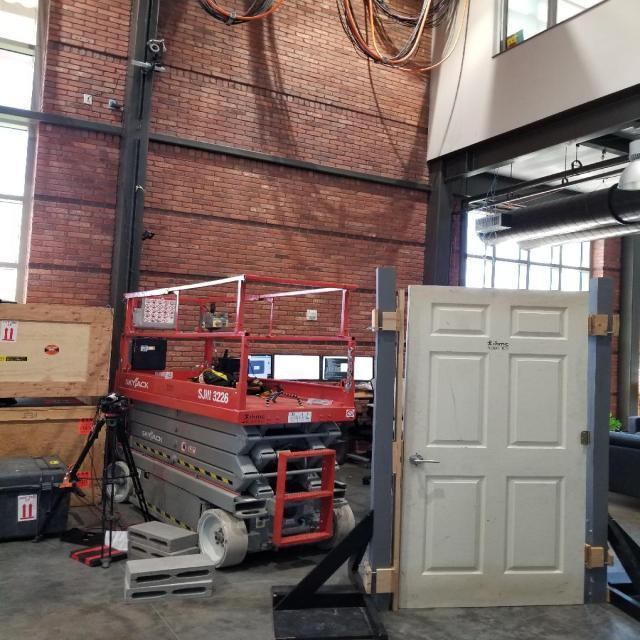door: (394, 282, 592, 610), (406, 451, 438, 466)
